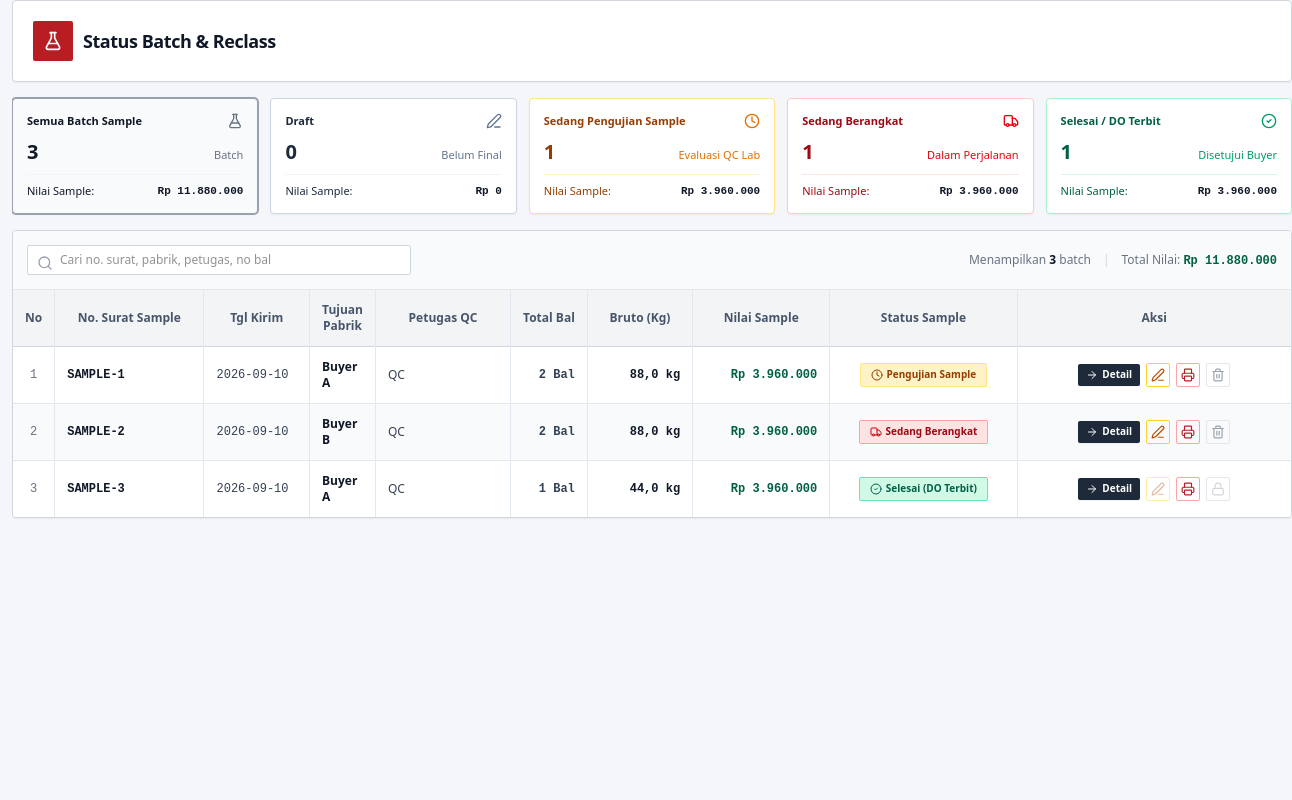
Scenario: Status Batch & Reclass menampilkan semua daftar batch › Detail membuka satu batch dan dapat kembali ke daftar
What coordinates should you click on to do the following:
click the button "Detail" in the row of "SAMPLE-1"
I would click on:
 (1109, 375)
Its box is [1078,364,1140,386].
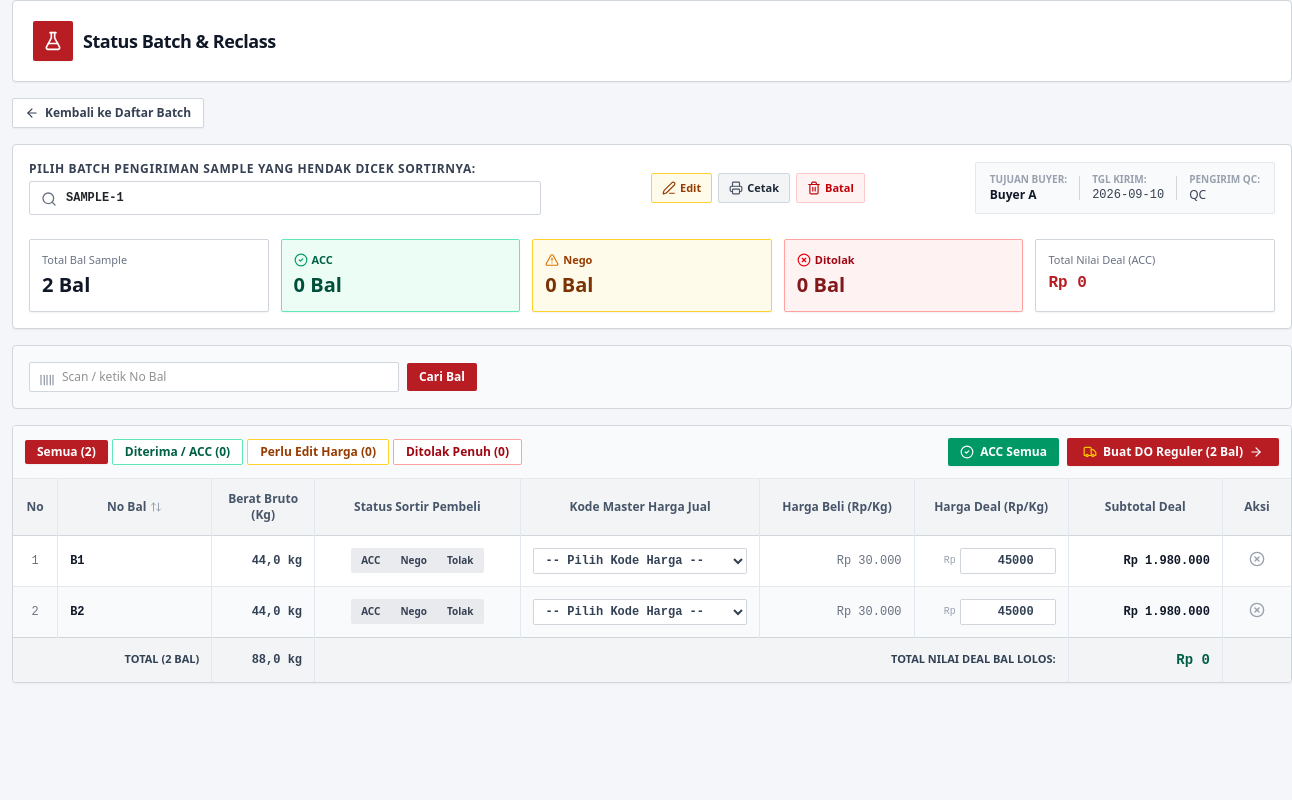
Check: the button "Kembali ke Daftar Batch" is shown
What coordinates should you click on to do the following:
click the button "Kembali ke Daftar Batch"
I would click on:
 (108, 113)
Its box is [12,98,204,128].
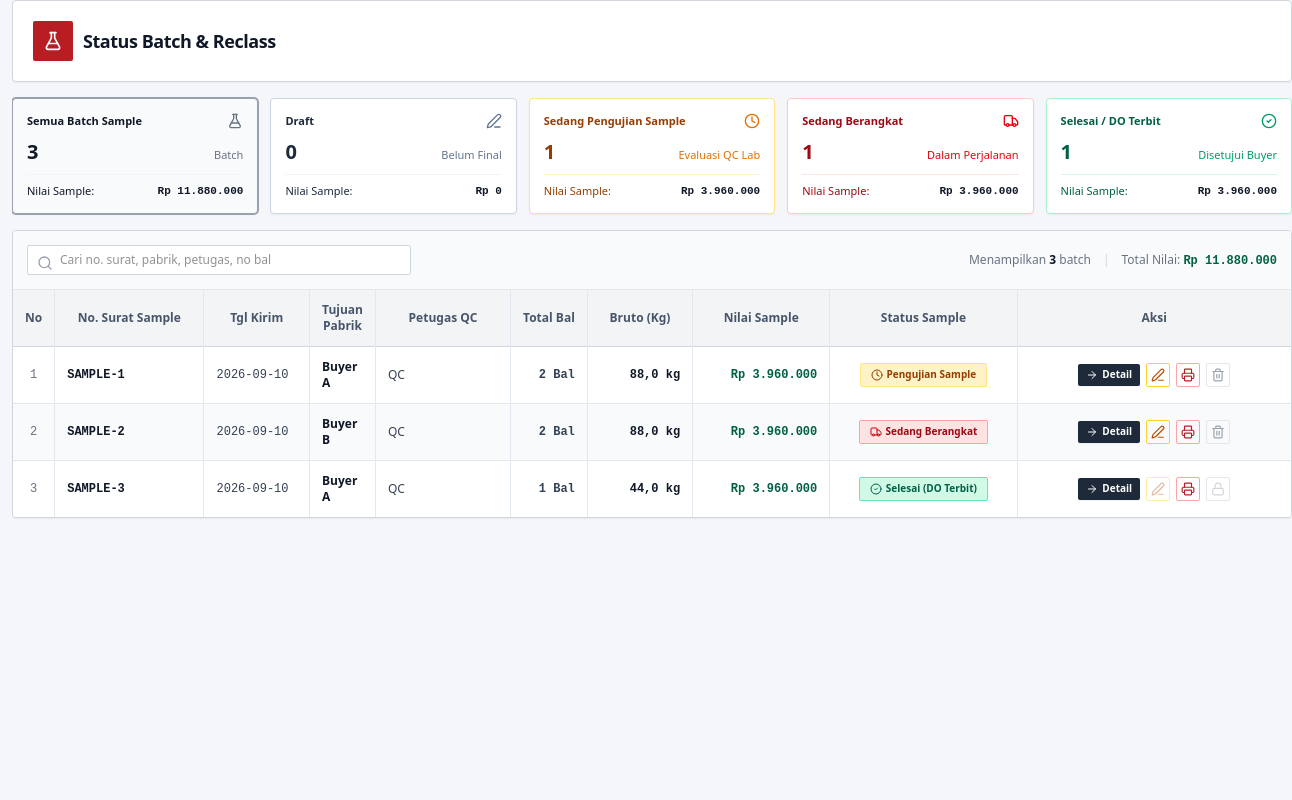
Check: the text "Semua Batch Sample" is shown, box [27,113,142,130]
